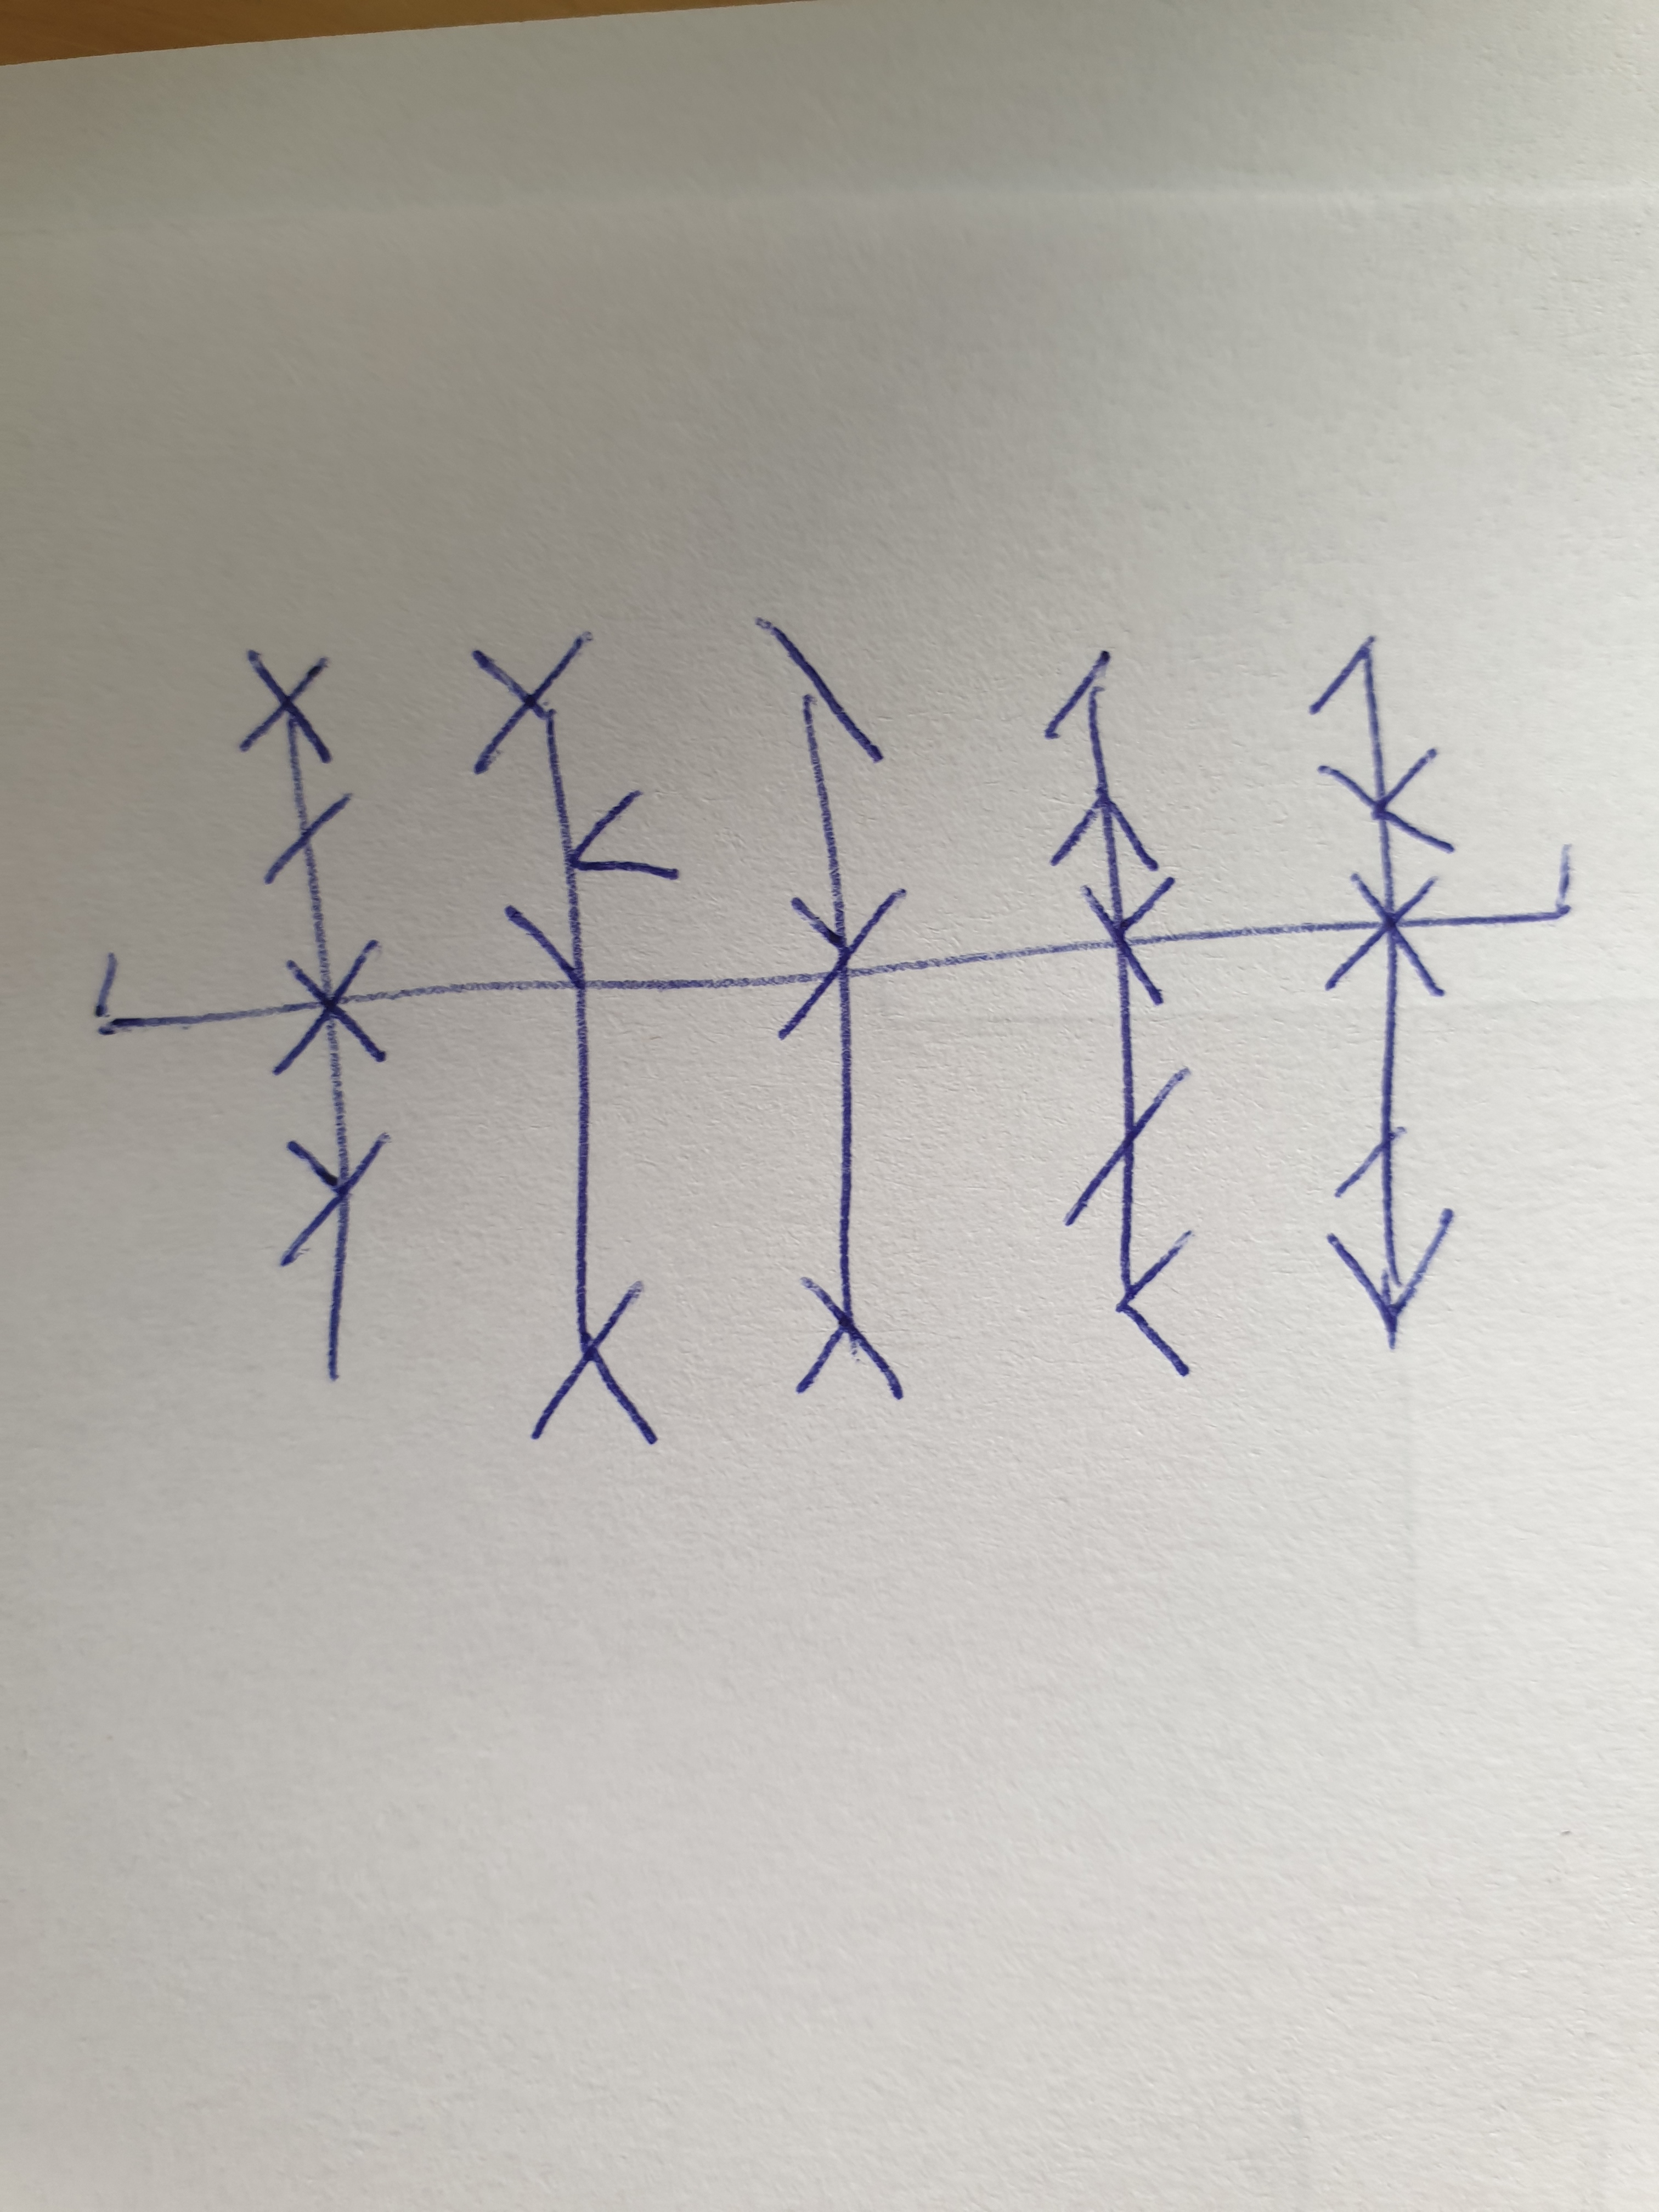Bar: (462, 631, 681, 1440), (237, 648, 401, 1385), (753, 622, 906, 1402), (1042, 650, 1194, 1379), (1307, 634, 1457, 1345)
Barcode: (98, 618, 1577, 1442)
End: (1459, 846, 1579, 930)
Start: (98, 953, 286, 1036)
